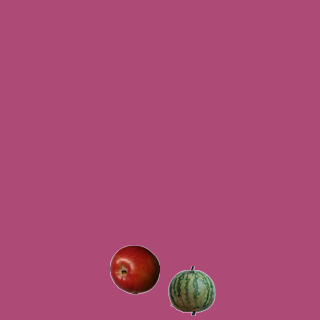Apple Braeburn: (109, 244, 159, 294)
Watermelon: (166, 265, 216, 315)
